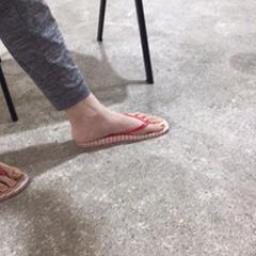Medial View -Left Foot-: (55, 90, 172, 162)
